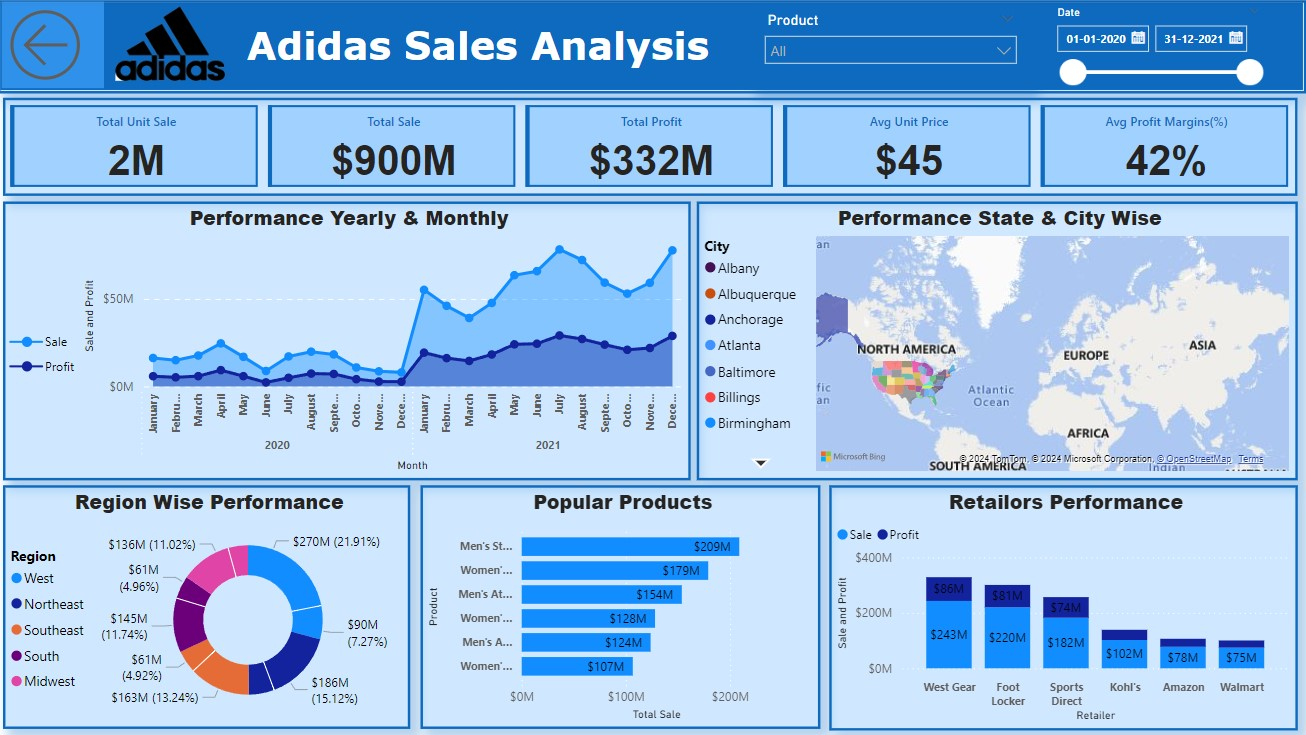

The dashboard page shown, as its layout file describes it:
{"tool":"powerbi","page":{"name":"Analysis","canvas":[1280,720],"ordinal":1},"visuals":[{"type":"shape","box":[0,1.1,1280,91.1],"z":0},{"type":"cardVisual","fields":{"Data":["Sale_KPIs.Total_unit_sale","Sale_KPIs.Total_Sale","Sale_KPIs.Total_Profit","Sale_KPIs.Avg_Unit_Price","Sale_KPIs.Avg_profit_margins"]},"box":[5,96.2,1266.2,96.2],"z":1000},{"type":"textbox","box":[238.9,16.7,498.9,64.4],"z":1500},{"type":"areaChart","title":"Performance Yearly & Monthly","fields":{"Y":["Sale_KPIs.Total_Sale","Sale_KPIs.Total_Profit"],"Category":["Data Sales Adidas.Invoice Date.Variation.Date Hierarchy.Year","Data Sales Adidas.Invoice Date.Variation.Date Hierarchy.Month"]},"box":[5,197.5,672.5,272.5],"z":2000},{"type":"filledMap","title":"Performance State & City Wise","fields":{"Category":["Data Sales Adidas.State"],"Series":["Data Sales Adidas.City"]},"box":[683.6,198.1,588.2,272.7],"z":4000},{"type":"donutChart","title":"Region Wise Performance","fields":{"Category":["Data Sales Adidas.Region"],"Y":["Sale_KPIs.Total_Sale","Sale_KPIs.Total_Profit"]},"box":[5,476.2,398.8,238.8],"z":5000},{"type":"clusteredBarChart","title":"Popular Products","fields":{"Category":["Data Sales Adidas.Product"],"Y":["Sale_KPIs.Total_Sale"]},"box":[413.8,476.2,391.2,238.8],"z":6000},{"type":"columnChart","title":"Retailors Performance","fields":{"Y":["Sale_KPIs.Total_Sale","Sale_KPIs.Total_Profit"],"Category":["Data Sales Adidas.Retailer"]},"box":[813.2,475.7,458.6,239.7],"z":7000},{"type":"slicer","fields":{"Values":["Data Sales Adidas.Product"]},"box":[737.5,5,271.2,82.5],"z":9000},{"type":"slicer","fields":{"Values":["Data Sales Adidas.Invoice Date"]},"box":[1023.8,1.2,222.5,91.2],"z":9500},{"type":"image","box":[110.1,0,117.4,86.8],"z":11000},{"type":"actionButton","box":[3.8,2.5,100,85],"z":12000}]}

Visuals, with their boxes in screenshot pixels (x1, y1, x2, y2), scaled from the page's 1280x720 canvas onto the 1306x735 screenshot:
shape: <bbox>0, 1, 1305, 94</bbox>
cardVisual - Sale_KPIs.Total_unit_sale x Sale_KPIs.Total_Sale: <bbox>5, 98, 1297, 196</bbox>
textbox: <bbox>244, 17, 753, 83</bbox>
"Performance Yearly & Monthly" areaChart: <bbox>5, 202, 691, 480</bbox>
"Performance State & City Wise" filledMap: <bbox>697, 202, 1298, 481</bbox>
"Region Wise Performance" donutChart: <bbox>5, 486, 412, 730</bbox>
"Popular Products" clusteredBarChart: <bbox>422, 486, 821, 730</bbox>
"Retailors Performance" columnChart: <bbox>830, 486, 1298, 730</bbox>
slicer - Data Sales Adidas.Product: <bbox>752, 5, 1029, 89</bbox>
slicer - Data Sales Adidas.Invoice Date: <bbox>1045, 1, 1272, 94</bbox>
image: <bbox>112, 0, 232, 89</bbox>
actionButton: <bbox>4, 3, 106, 89</bbox>
